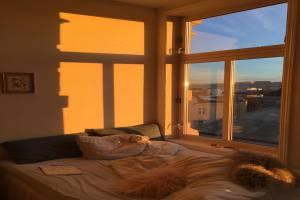window: (178, 1, 289, 151)
